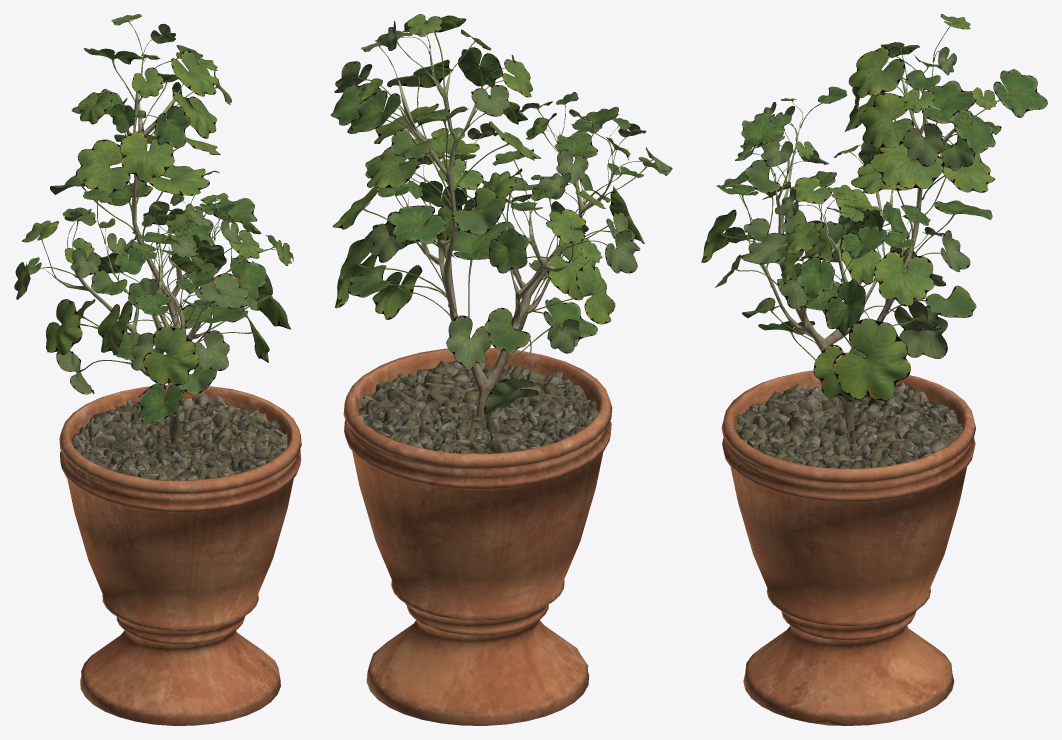
File: potted_plant_01.glb
3 renders of one model, left to right at view 1: azimuth 30°, elevation 25°; view 2: azimuth 150°, elevation 25°; view 3: azimuth 270°, elevation 25°, orthographic. The views are drawn at different scales.
Parts seen in each view (by area): view 1: potted_plant_01_stem, potted_plant_01_leaves; view 2: potted_plant_01_stem, potted_plant_01_leaves; view 3: potted_plant_01_stem, potted_plant_01_leaves.
Part boxes in pixels (x1,y1,x2,y2): potted_plant_01_stem: (54,54,301,725); potted_plant_01_leaves: (14,14,293,424); potted_plant_01_stem: (343,49,612,725); potted_plant_01_leaves: (330,14,672,414); potted_plant_01_stem: (721,55,975,725); potted_plant_01_leaves: (701,14,1047,401).
Size of the model in its own units: 0.5874 by 1.34 by 0.6336.
2 materials, 2 textured.
